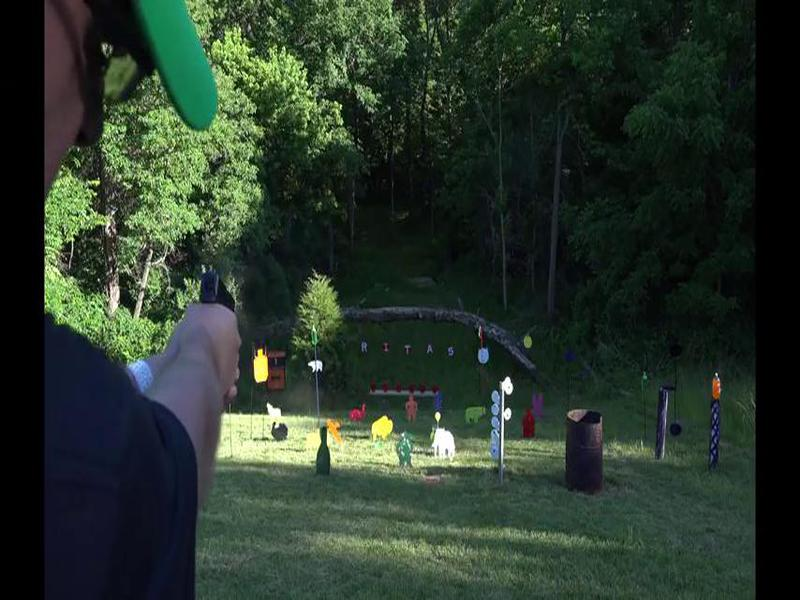Pistola: (183, 264, 248, 337)
